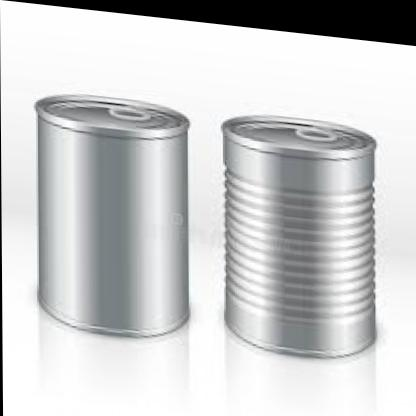Metal: (24, 32, 376, 375)
